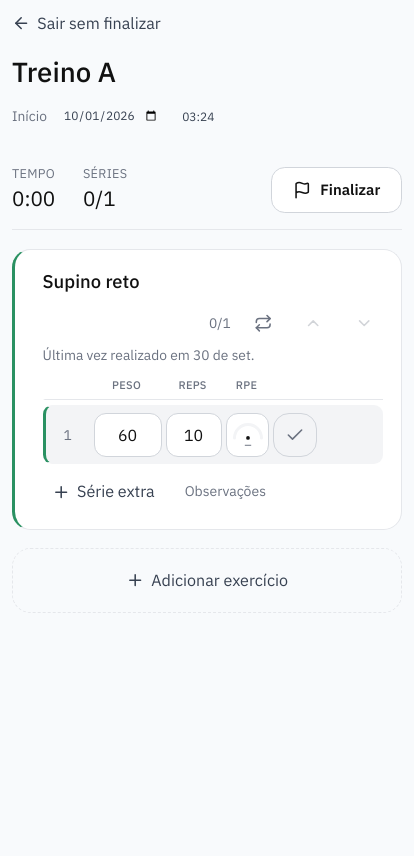
Test: personal record toast › announces a record when the completed set beats the all-time best
Expected: the heading "Treino A" is shown, [12, 54, 116, 90]
Click the button named "Concluir série 1 de Supino reto" at (296, 434), box [274, 412, 318, 456]
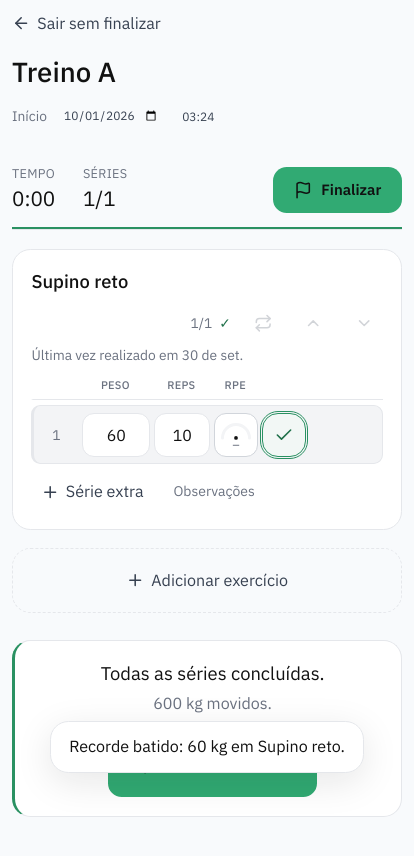
Now the text "Recorde batido: 60 kg em Supino reto." is shown, box [69, 735, 345, 758]
